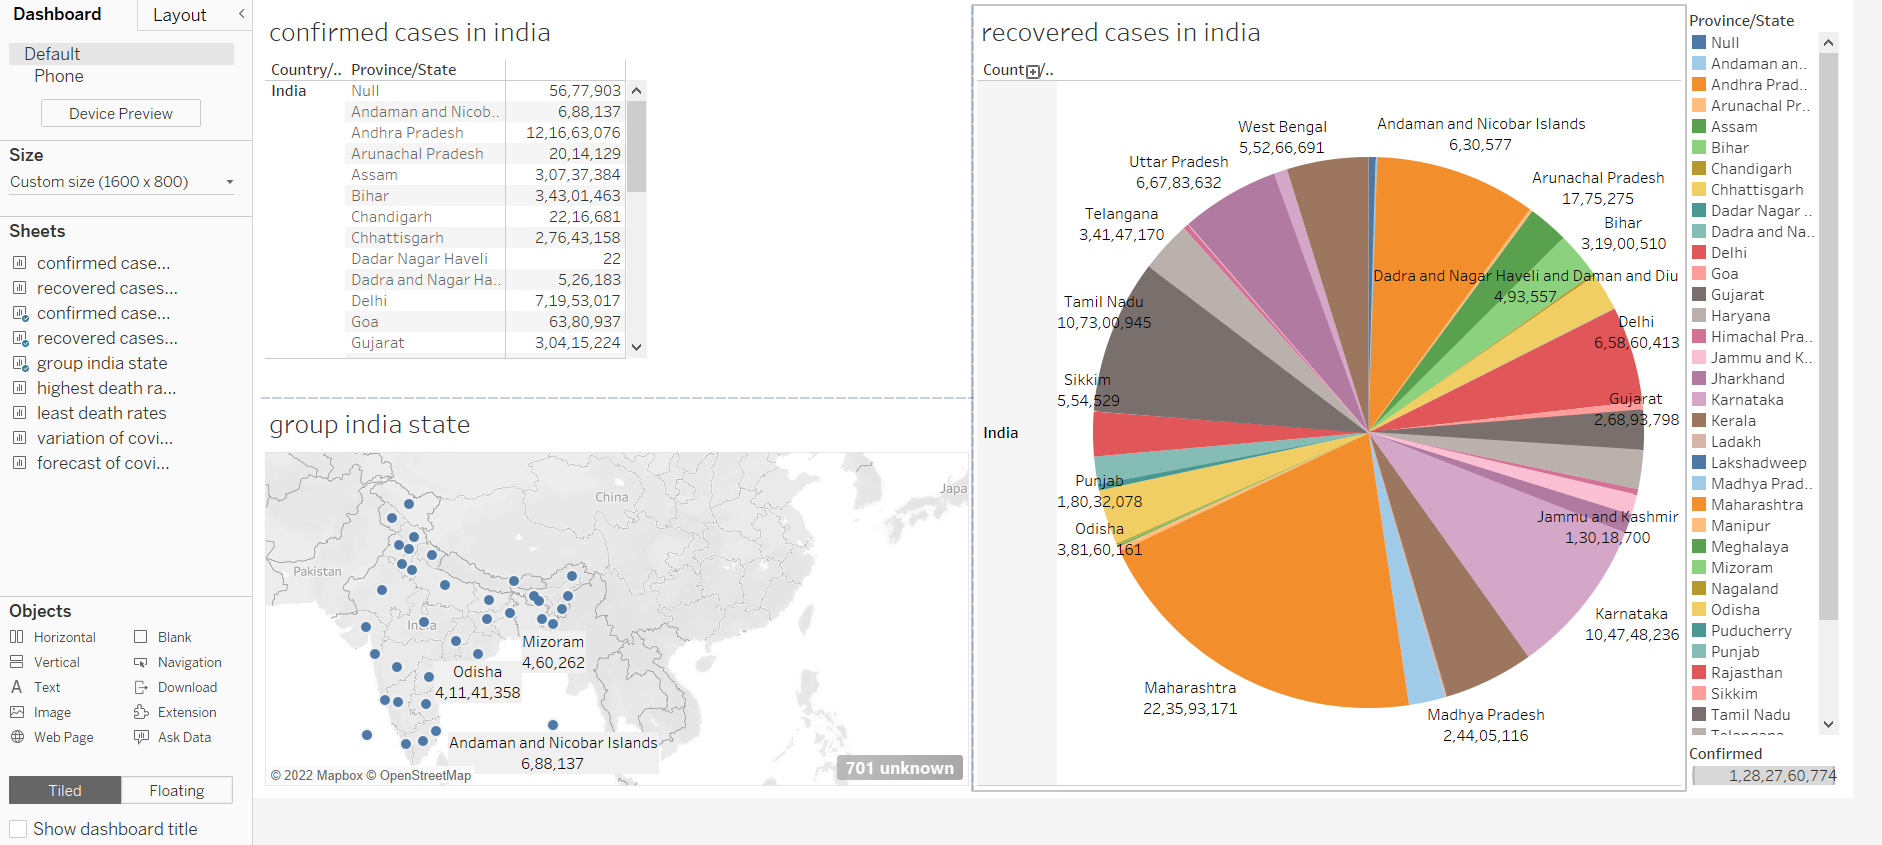

The page's visual inventory and layout, read from the dashboard file:
{"tool":"tableau","page":{"name":"c-19 india dashboard","canvas":[1600,800],"ordinal":1},"visuals":[{"type":"worksheet","title":"confirmed cases in india","mark":"Automatic","rows":["Country/Region","Province/State"],"box":[8,8,711.9,392]},{"type":"worksheet","title":"recovered cases in india","mark":"Pie","rows":["Country/Region"],"box":[719.9,8,712.1,784]},{"type":"legend","title":"recovered cases in india","param":"[federated.0pxoebw1pfay1u1fxojug1n0hj8b].[none:Province/State:nk]","box":[1432,8,160,733]},{"type":"worksheet","title":"group india state","mark":"Automatic","box":[8,400,711.9,392]},{"type":"legend","title":"recovered cases in india","param":"[federated.0pxoebw1pfay1u1fxojug1n0hj8b].[sum:Confirmed:qk]","box":[1432,741,160,51]}]}

Visuals, with their boxes on the page's 1600x800 design canvas (x1, y1, x2, y2). These are canvas units, not pixel positions in the 1882x845 screenshot, which may show the page scaled, cropped or inside an application window:
"confirmed cases in india" worksheet: bbox=(8, 8, 720, 400)
"recovered cases in india" worksheet (Pie marks): bbox=(720, 8, 1432, 792)
"recovered cases in india" legend: bbox=(1432, 8, 1592, 741)
"group india state" worksheet: bbox=(8, 400, 720, 792)
"recovered cases in india" legend: bbox=(1432, 741, 1592, 792)
